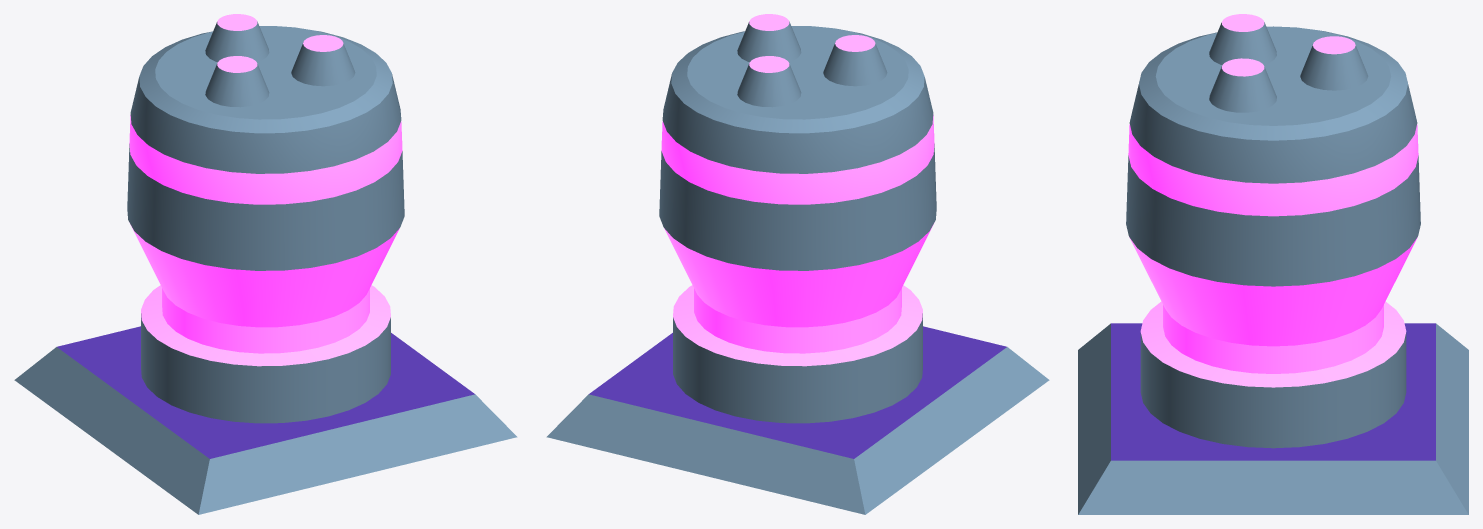
File: Waall_3.fbx
3 views of the same model, side by side, from view 1: azimuth 30°, elevation 25°; view 2: azimuth 150°, elevation 25°; view 3: azimuth 270°, elevation 25° (orthographic). The views are drawn at different scales.
Visible parts, largest first — view 1: waal_solid_3; view 2: waal_solid_3; view 3: waal_solid_3.
Boxes of the visible parts, bbox=[...] form: waal_solid_3: bbox=[14, 14, 517, 514]; waal_solid_3: bbox=[546, 14, 1049, 514]; waal_solid_3: bbox=[1078, 14, 1468, 514].
Bounding box in the file's own units: 39.36 × 43.05 × 39.36.
